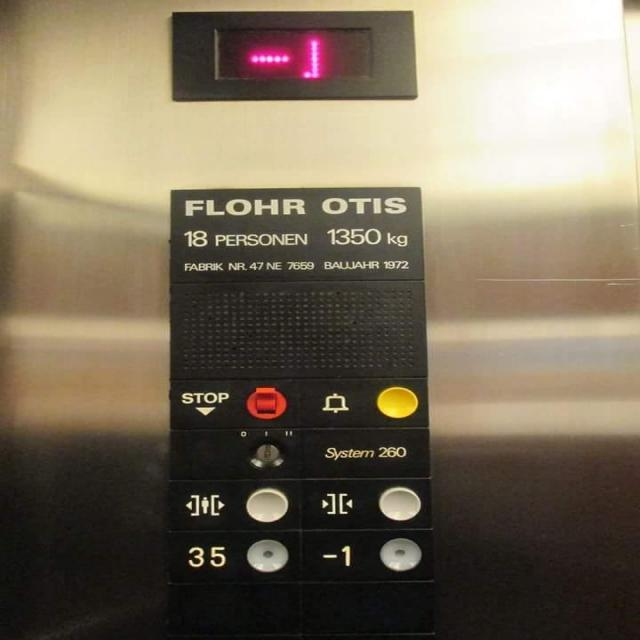-1: (299, 528, 438, 587)
35: (163, 527, 305, 586)
alarm: (296, 373, 435, 433)
bt_keyhole: (164, 427, 306, 477)
close: (299, 474, 437, 532)
led: (213, 22, 378, 82)
open: (166, 474, 303, 531)
stop: (165, 374, 302, 431)
text: (298, 425, 433, 477)
